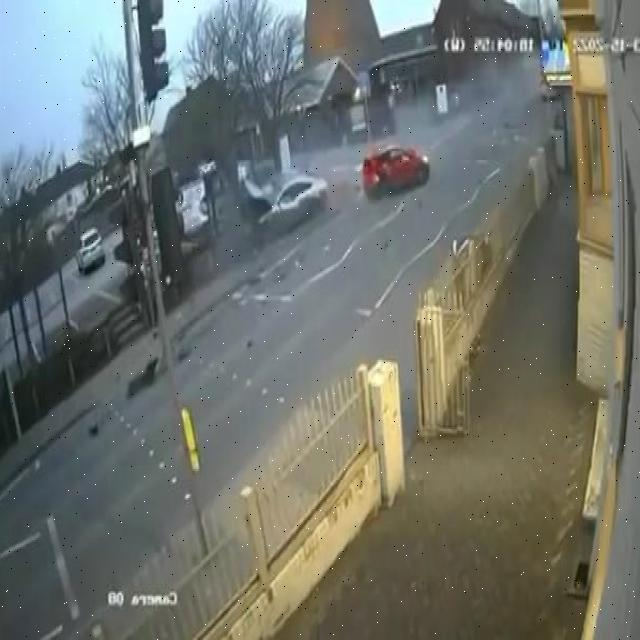accident: (235, 152, 334, 250), (361, 127, 438, 209)
